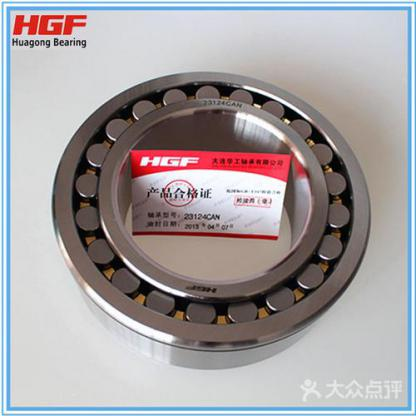FOD: (44, 66, 374, 372)
